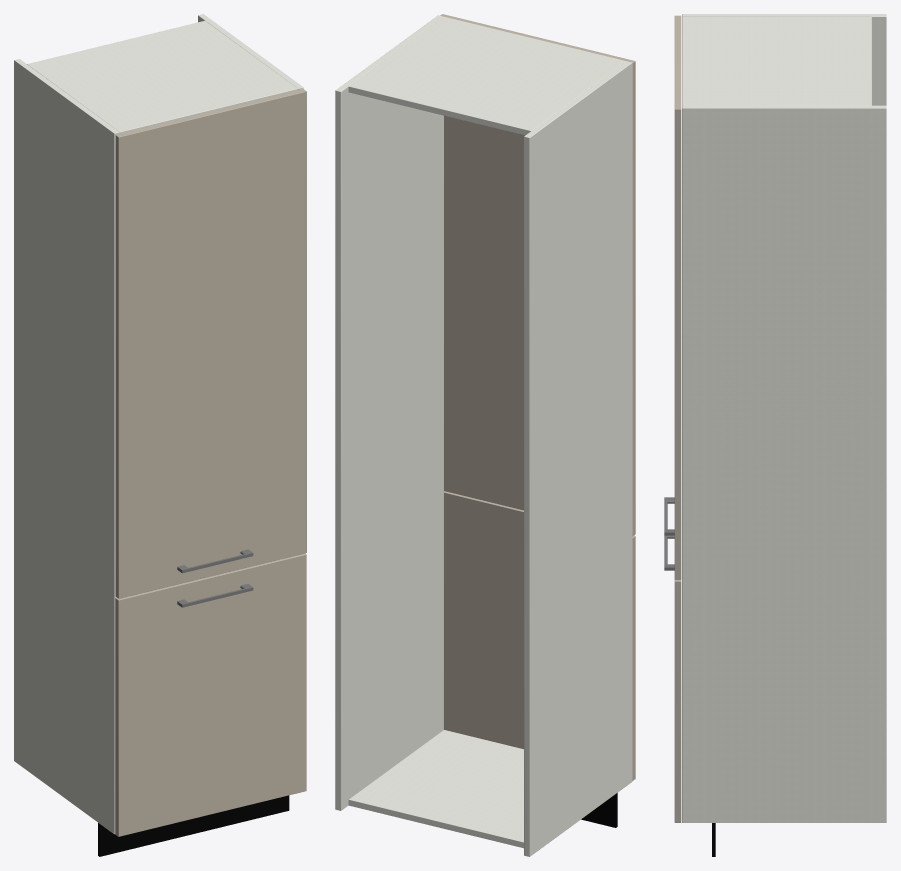
3 views of the same model, side by side, from view 1: azimuth 30°, elevation 25°; view 2: azimuth 150°, elevation 25°; view 3: azimuth 270°, elevation 25° (orthographic). The views are drawn at different scales.
Parts seen in each view (by area): view 1: k2, Stranica Leva, Vezna Prednja H, Stranica Desna; view 2: Stranica Leva, Stranica Desna, k2, Vezna Prednja H, Pod; view 3: Stranica Desna, Vezna Prednja H, k2, Stranica Leva.
Part boxes in pixels (box(x1,y1,x2,y2)): k2: box(98, 89, 306, 856); Stranica Leva: box(14, 59, 119, 834); Vezna Prednja H: box(27, 21, 297, 133); Stranica Desna: box(198, 14, 303, 90); Stranica Leva: box(524, 61, 632, 856); Stranica Desna: box(335, 15, 443, 810); k2: box(440, 14, 635, 827); Vezna Prednja H: box(348, 16, 626, 135); Pod: box(348, 730, 523, 848); Stranica Desna: box(682, 105, 886, 822); Vezna Prednja H: box(682, 16, 871, 105); k2: box(674, 15, 715, 856); Stranica Leva: box(682, 14, 886, 105).
Bounding box in the file's own units: 0.6 × 2.22 × 0.598.
Materials: 4 (2 with a texture image).
